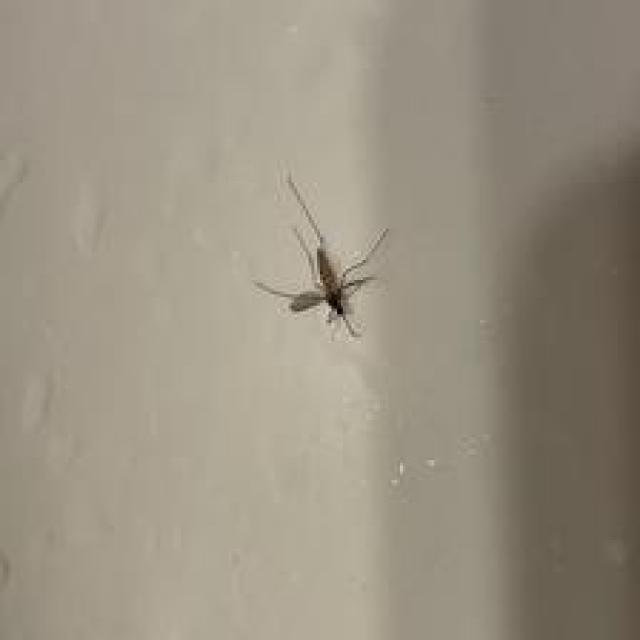Culex: (253, 171, 390, 340)
